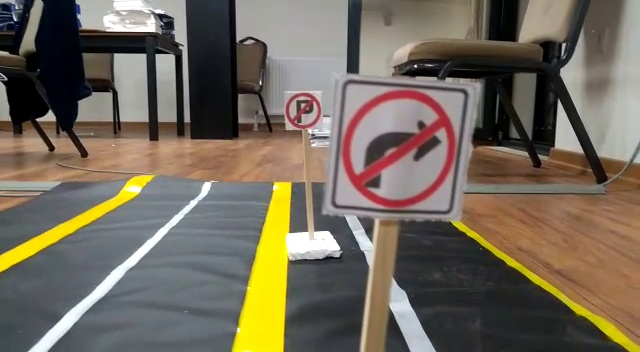park_yapilmaz: (284, 90, 324, 131)
saga_donulmez: (335, 80, 454, 217)
